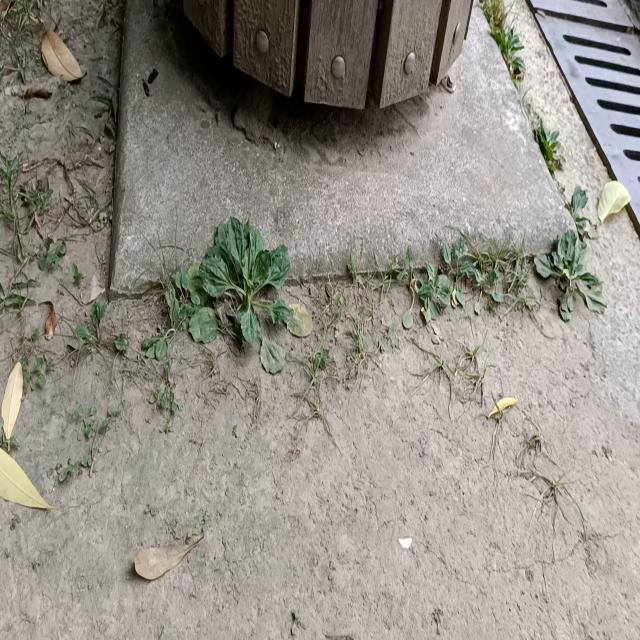grass: (166, 217, 300, 373)
white-sand: (0, 213, 640, 639)
